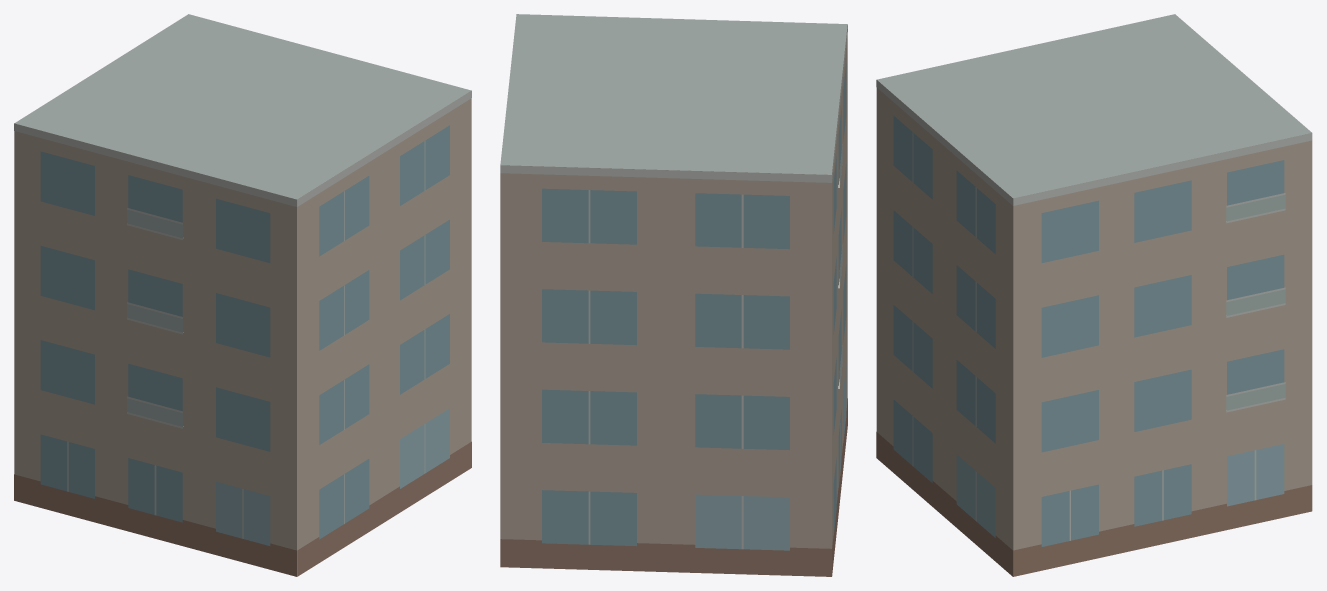
Rendered from survey-upis-32763978.glb.
3 renders of one model, left to right at view 1: azimuth 30°, elevation 25°; view 2: azimuth 150°, elevation 25°; view 3: azimuth 270°, elevation 25°, orthographic. The views are drawn at different scales.
Visible parts, largest first — view 1: survey-upis-32763978.tmp; view 2: survey-upis-32763978.tmp; view 3: survey-upis-32763978.tmp.
Boxes of the visible parts, x1=… form: survey-upis-32763978.tmp: x1=14, y1=14, x2=471, y2=576; survey-upis-32763978.tmp: x1=500, y1=14, x2=847, y2=576; survey-upis-32763978.tmp: x1=876, y1=14, x2=1312, y2=576.
Bounding box in the file's own units: 12.76 × 12.2 × 12.74.
